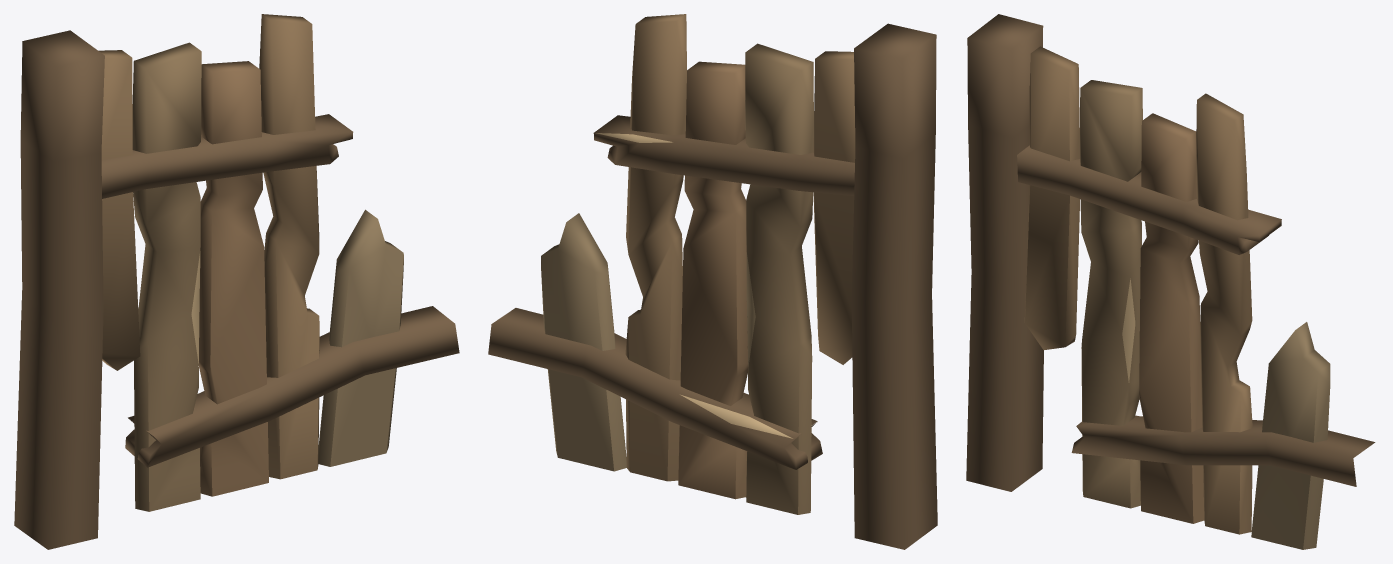
Rendered from rpgpp_av_fence_03f_2m.gltf.
The picture shows the model from 3 angles, left to right: view 1: azimuth 30°, elevation 25°; view 2: azimuth 150°, elevation 25°; view 3: azimuth 330°, elevation 25°; orthographic projection. The views are drawn at different scales.
Parts seen in each view (by area): view 1: rpgpp_av_fence_03f_2m; view 2: rpgpp_av_fence_03f_2m; view 3: rpgpp_av_fence_03f_2m.
Part boxes in pixels (x1,y1,x2,y2): rpgpp_av_fence_03f_2m: (14, 14, 459, 549); rpgpp_av_fence_03f_2m: (488, 14, 937, 549); rpgpp_av_fence_03f_2m: (966, 14, 1375, 549).
Bounding box in the file's own units: 0.0196 × 0.0217 × 0.00304.
1 material, 1 textured.
